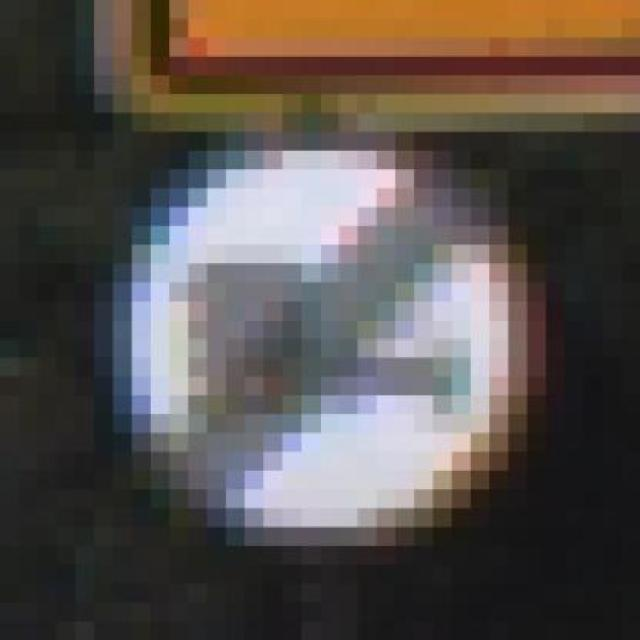Overtaking by trucks is prohibited: (94, 150, 583, 564)
